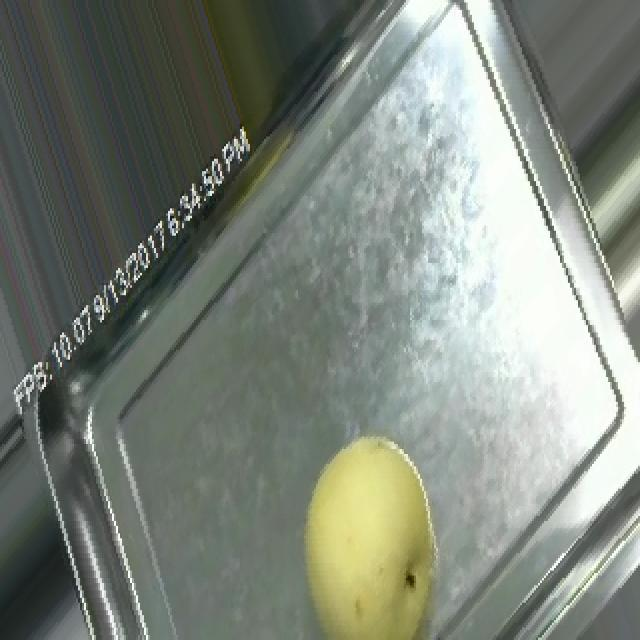Fruit: (266, 409, 480, 640)
